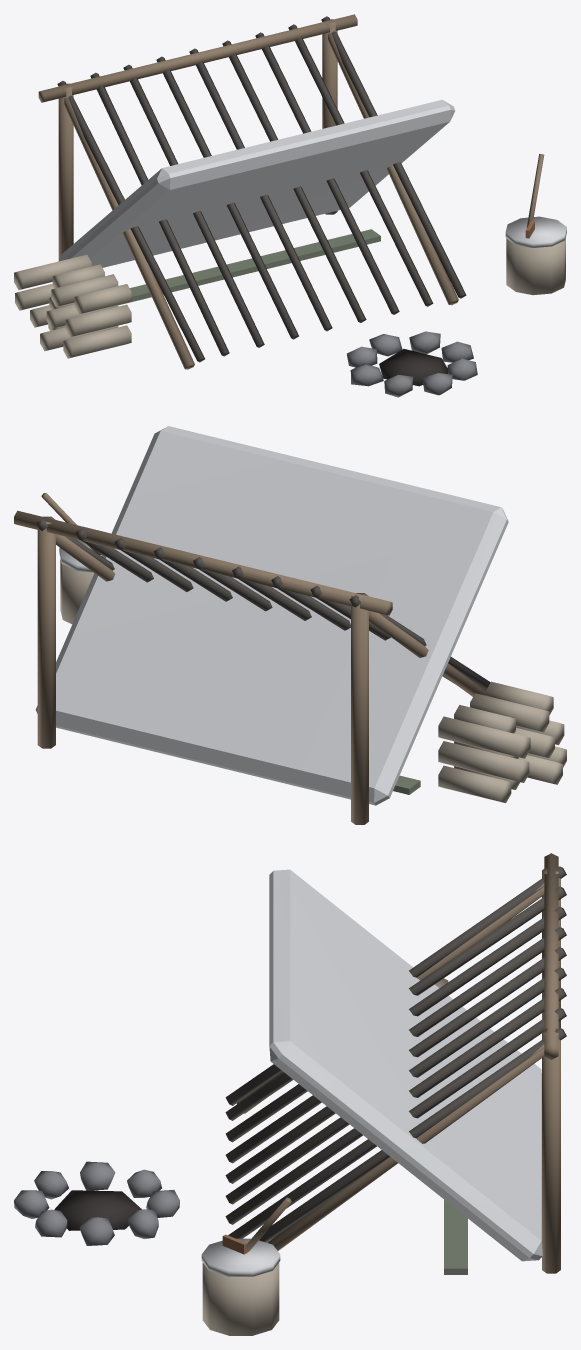
Rendered from woodcutter_leanto.glb.
3 views of the same model, one above another, from view 1: azimuth 30°, elevation 25°; view 2: azimuth 150°, elevation 25°; view 3: azimuth 270°, elevation 25° (orthographic). The views are drawn at different scales.
Visible parts, largest first — view 1: woodcutter_leanto; view 2: woodcutter_leanto; view 3: woodcutter_leanto.
Part boxes in pixels (x1,y1,x2,y2): woodcutter_leanto: (14,14,566,397); woodcutter_leanto: (14,426,566,824); woodcutter_leanto: (14,853,566,1335).
Size of the model in its own units: 5.67 by 2.33 by 4.63.
